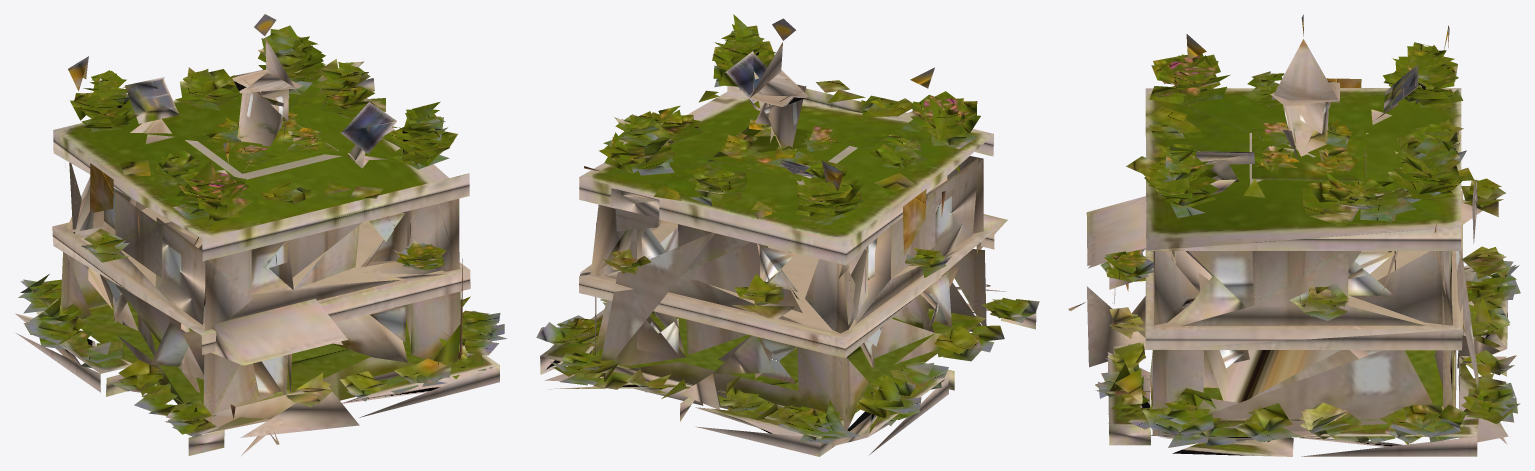
File: house-home.lod1.glb
3 views of the same model, side by side, from view 1: azimuth 30°, elevation 25°; view 2: azimuth 150°, elevation 25°; view 3: azimuth 270°, elevation 25° (orthographic). The views are drawn at different scales.
Visible parts, largest first — view 1: house-home_lod1; view 2: house-home_lod1; view 3: house-home_lod1.
Part boxes in pixels (x1,y1,x2,y2): house-home_lod1: (15,14,506,456); house-home_lod1: (536,14,1039,456); house-home_lod1: (1068,14,1520,456).
Size of the model in its own units: 6.95 by 6.22 by 6.97.
Materials: 1 (1 with a texture image).
